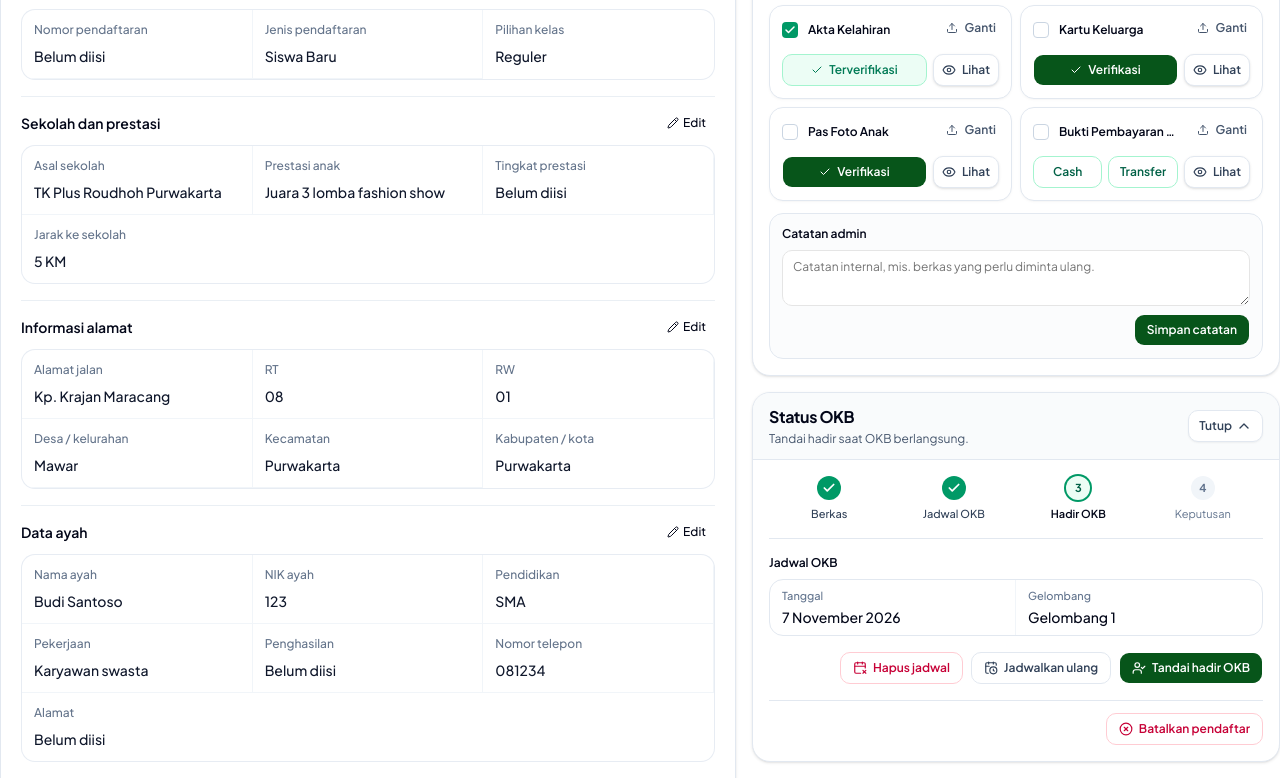
it: ParticipantDetail › asks for confirmation before removing a Jadwal OKB
(page scrolled)
Expected: the button "ya, hapus jadwal" is not shown
Click the button "Hapus jadwal".
click(901, 668)  # box 840,652 -> 963,684
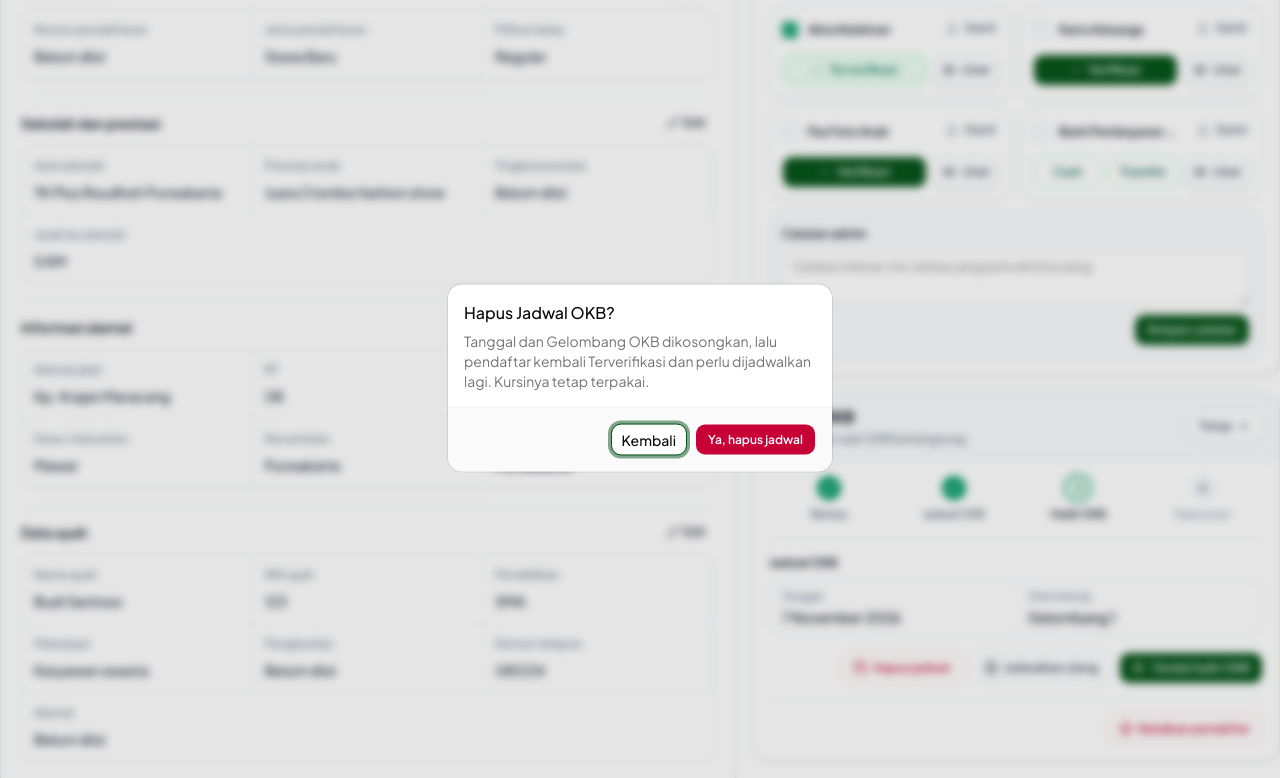
Now the dialog shows "kembali Terverifikasi", box 464,332 -> 811,390
Now the button "Ya, hapus jadwal" holds "unschedule", box 695,424 -> 816,456
